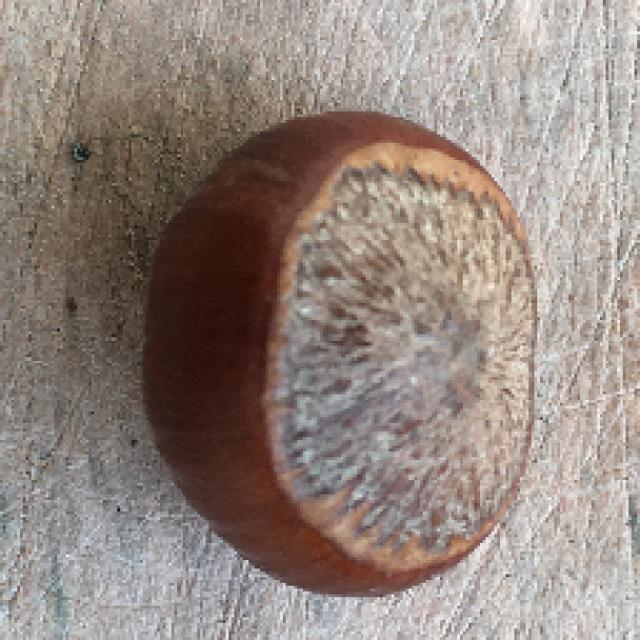damagedHazelnut: (134, 103, 549, 597)
